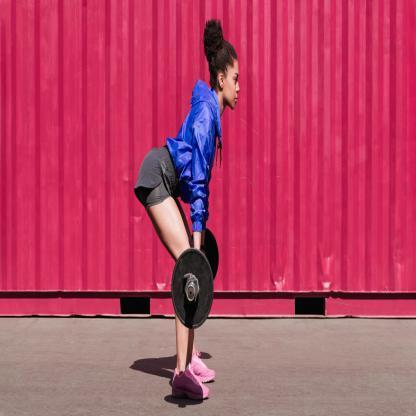barbell: (170, 226, 221, 330)
